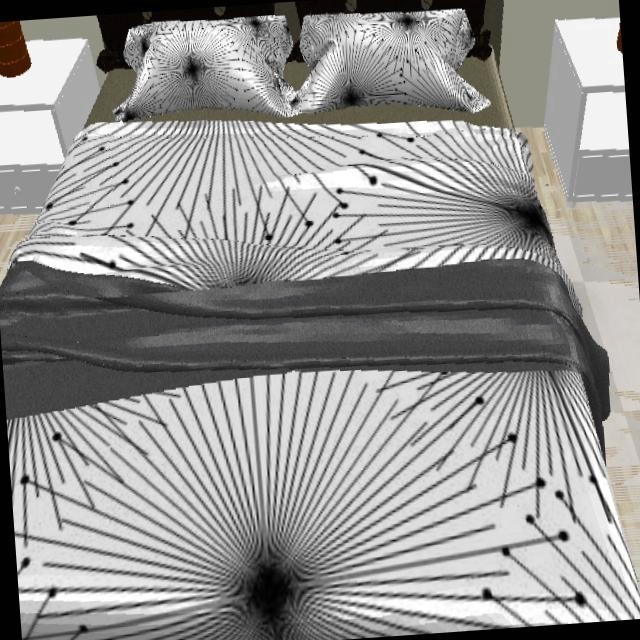bed: (0, 3, 640, 640)
lamp: (0, 20, 31, 79)
nighttable: (0, 38, 104, 213), (543, 16, 631, 202)
pillow: (112, 8, 445, 123)
